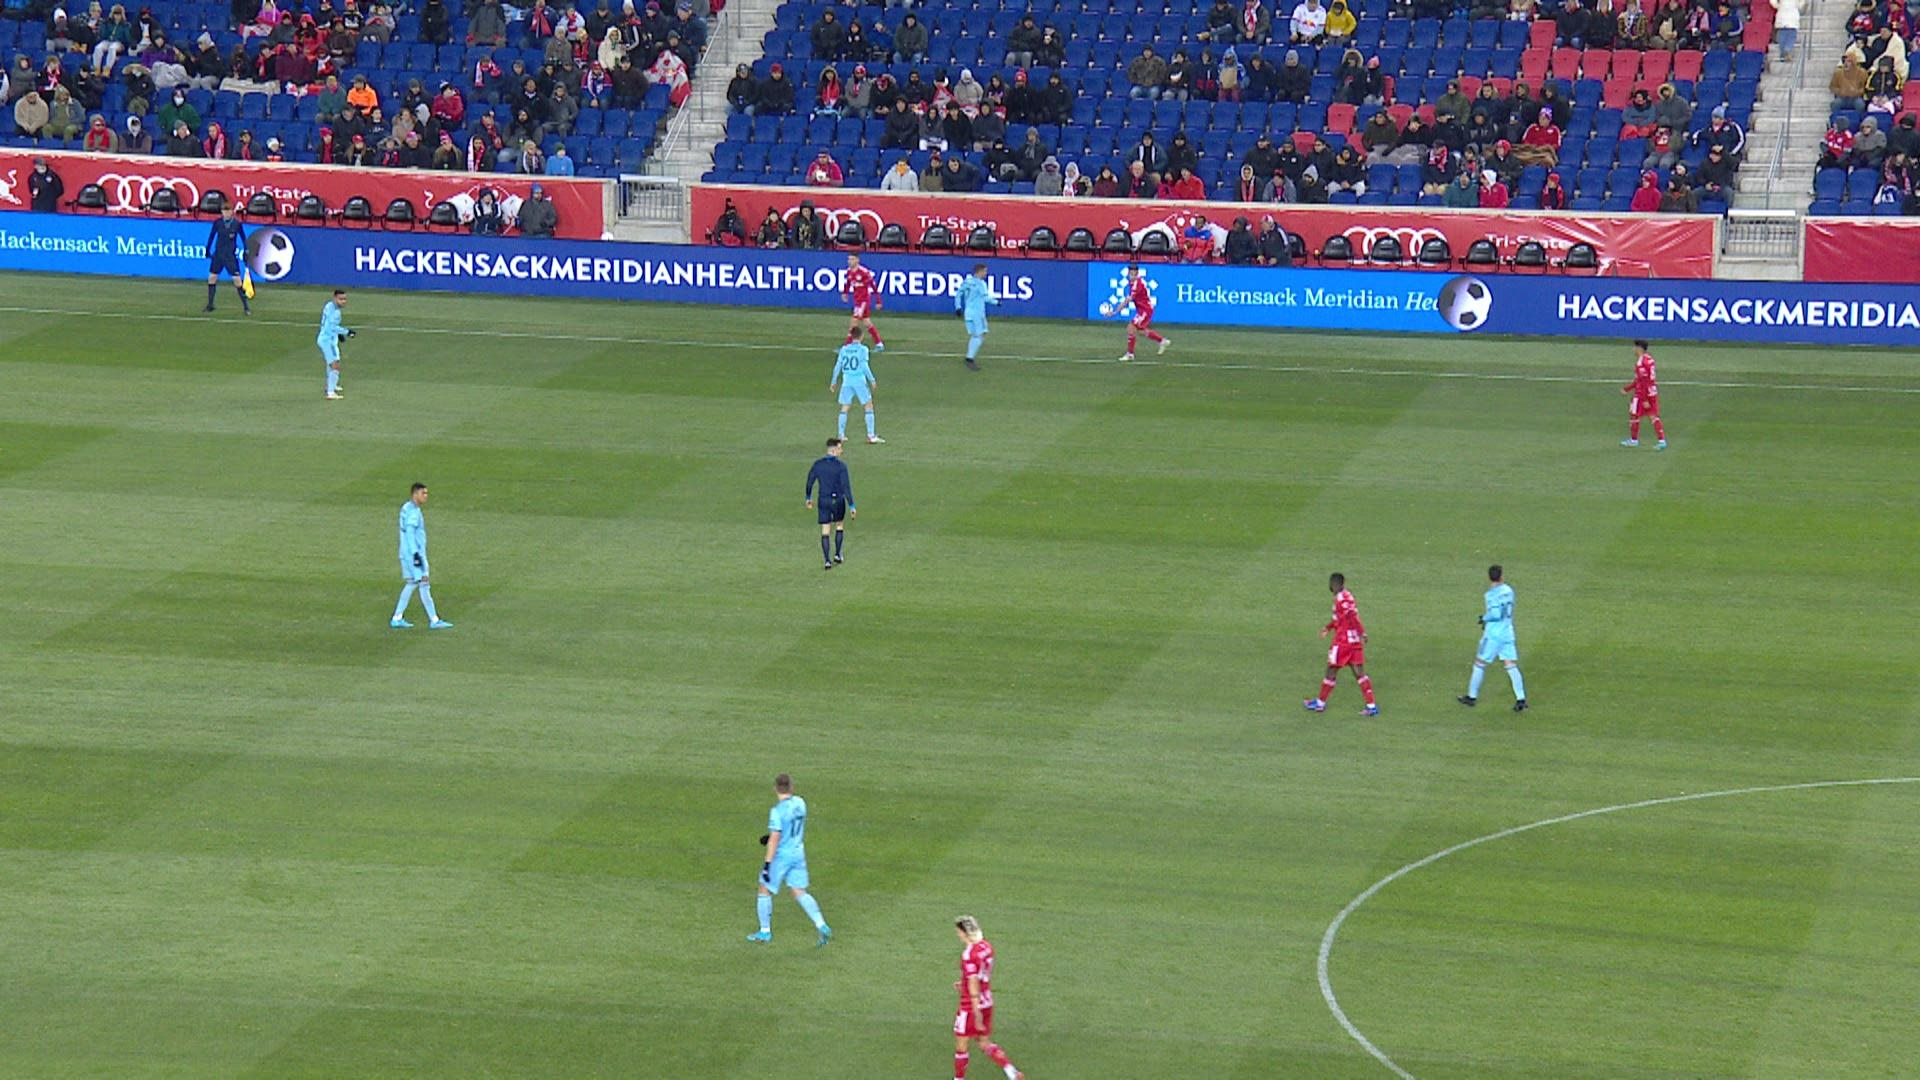football: (1100, 302, 1113, 315)
